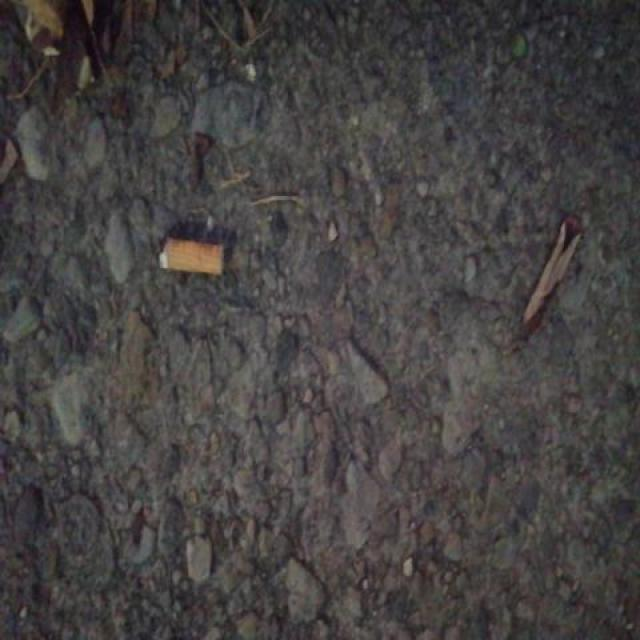non-organic waste: (151, 231, 229, 282)
